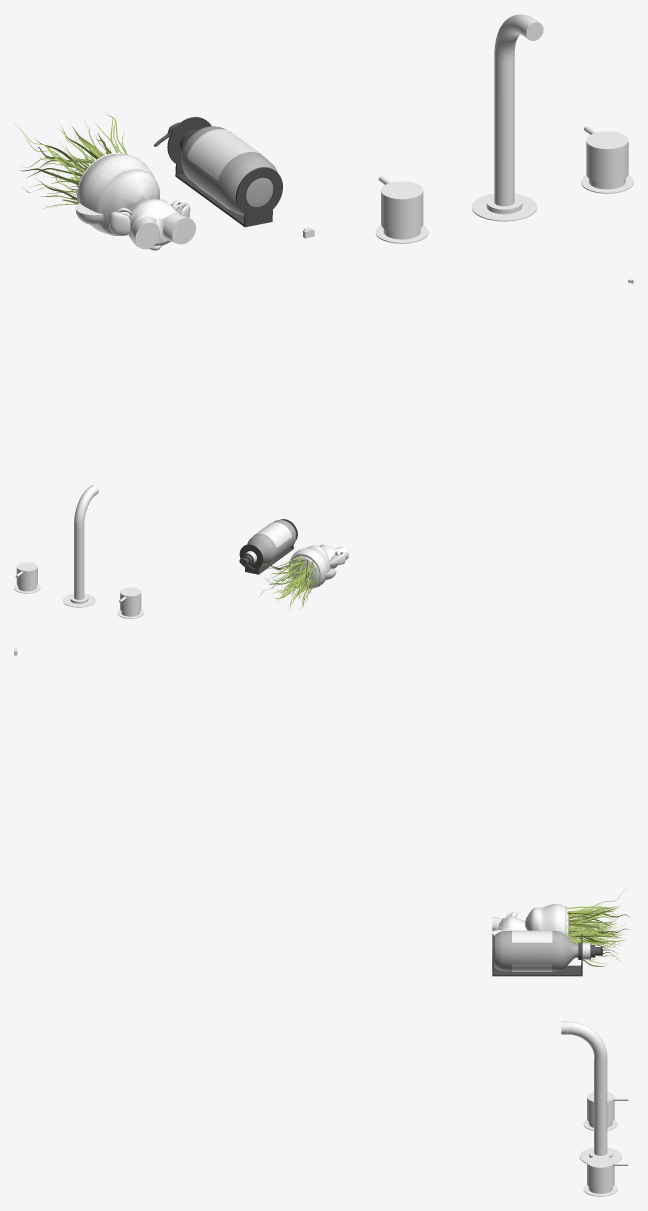
File: V1-1-2TIROIRS.glb
3 renders of one model, top to bottom at view 1: azimuth 30°, elevation 25°; view 2: azimuth 150°, elevation 25°; view 3: azimuth 270°, elevation 25°, orthographic. The views are drawn at different scales.
Parts seen in each view (by area): view 1: Mesh36, Mesh13, Mesh46, Mesh38, Mesh17, Mesh15, Mesh32, Mesh39; view 2: Mesh13, Mesh32, Mesh36, Mesh46, Mesh17, Mesh15, Mesh38, Mesh39; view 3: Mesh13, Mesh46, Mesh32, Mesh36, Mesh15, Mesh38.
Part boxes in pixels (x1=…): Mesh36: x1=75, y1=154, x2=195, y2=250; Mesh13: x1=471, y1=14, x2=543, y2=221; Mesh46: x1=181, y1=126, x2=277, y2=215; Mesh38: x1=167, y1=117, x2=282, y2=227; Mesh17: x1=375, y1=181, x2=428, y2=243; Mesh15: x1=581, y1=131, x2=633, y2=193; Mesh32: x1=15, y1=113, x2=127, y2=208; Mesh39: x1=187, y1=129, x2=260, y2=179; Mesh13: x1=62, y1=485, x2=98, y2=607; Mesh32: x1=258, y1=555, x2=318, y2=609; Mesh36: x1=291, y1=544, x2=348, y2=588; Mesh46: x1=247, y1=520, x2=296, y2=564; Mesh17: x1=117, y1=587, x2=143, y2=618; Mesh15: x1=14, y1=562, x2=40, y2=593; Mesh38: x1=239, y1=519, x2=297, y2=574; Mesh39: x1=255, y1=522, x2=291, y2=547; Mesh13: x1=561, y1=1021, x2=621, y2=1163; Mesh46: x1=493, y1=930, x2=578, y2=971; Mesh32: x1=567, y1=889, x2=630, y2=966; Mesh36: x1=492, y1=904, x2=565, y2=936; Mesh15: x1=583, y1=1156, x2=617, y2=1196; Mesh38: x1=492, y1=934, x2=582, y2=976.
Size of the model in its own units: 844 by 485 by 898.
